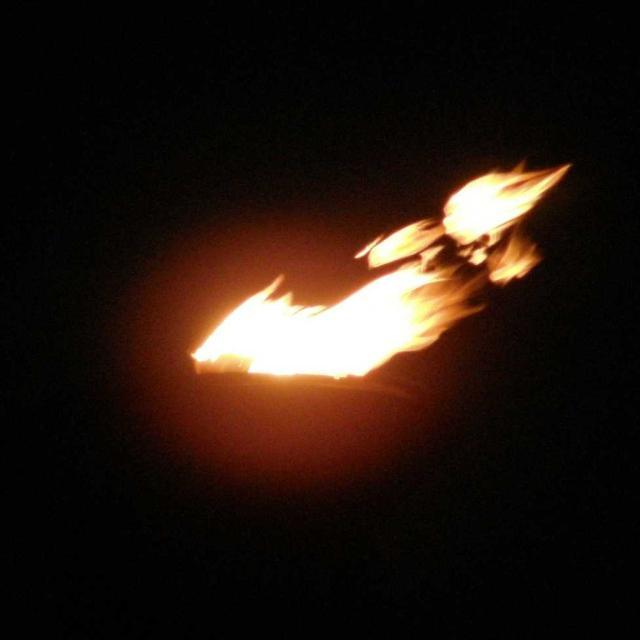Fire: (196, 282, 354, 346), (198, 343, 424, 378), (358, 276, 473, 343), (484, 238, 559, 274), (448, 195, 516, 232), (368, 245, 470, 268), (392, 225, 437, 244)
